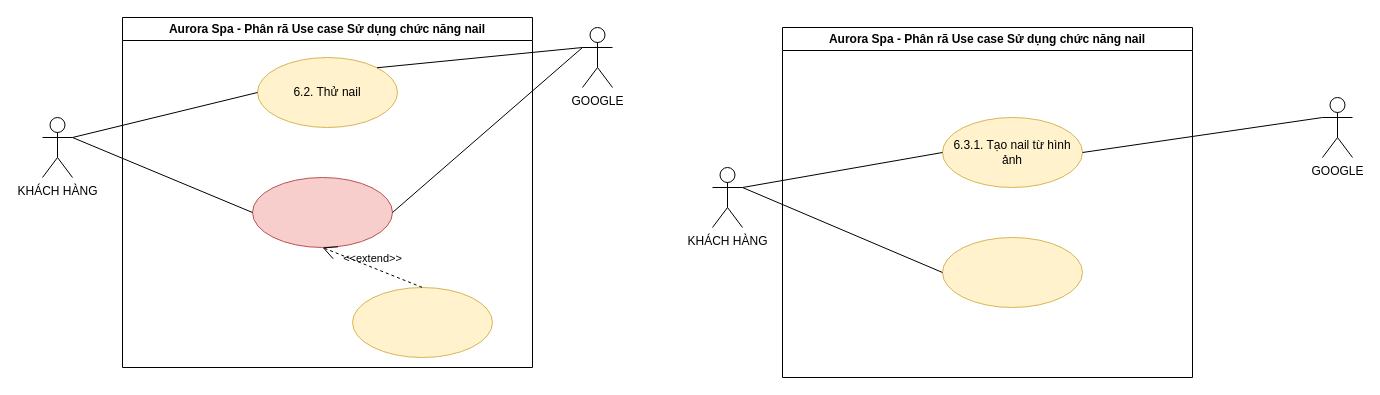
Image size: 1380x395. Some labels were removed from this diagram. The box of each missing label's shape, as (x1, y1, x2, y2) in pixels:
6.1. Lưu nail: (352, 286, 492, 358)
6.3. Tạo nail: (252, 176, 392, 248)
6.3.2. Tạo nail tự do: (942, 236, 1082, 308)
